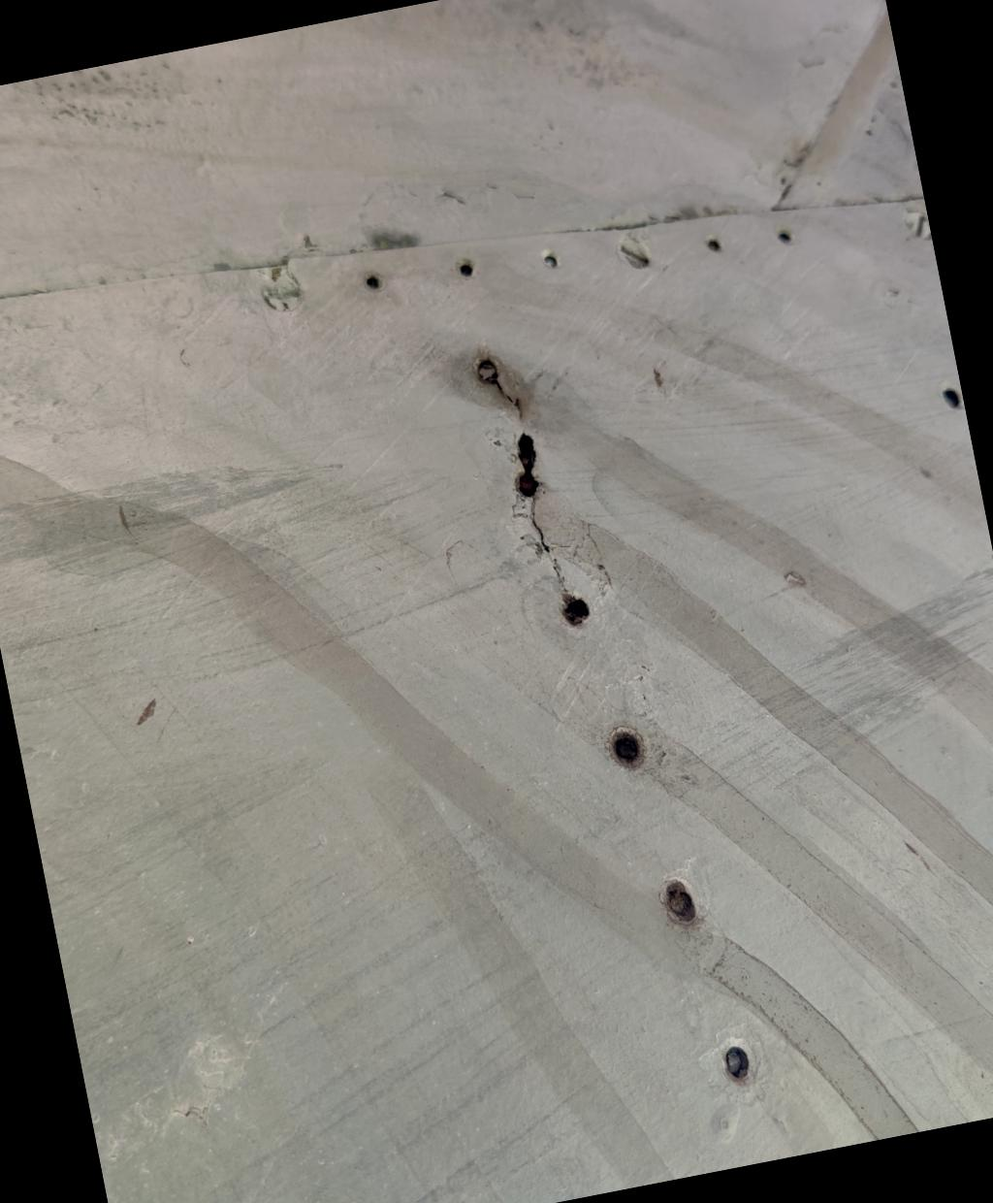crack: (438, 317, 625, 603)
